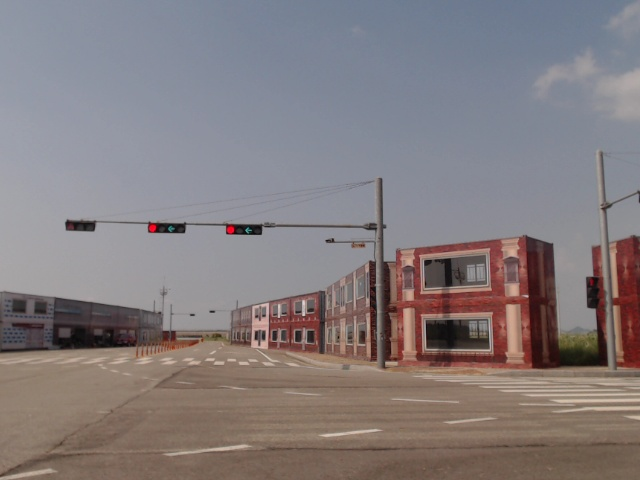left_green_4: (148, 223, 184, 234), (226, 225, 262, 235)
